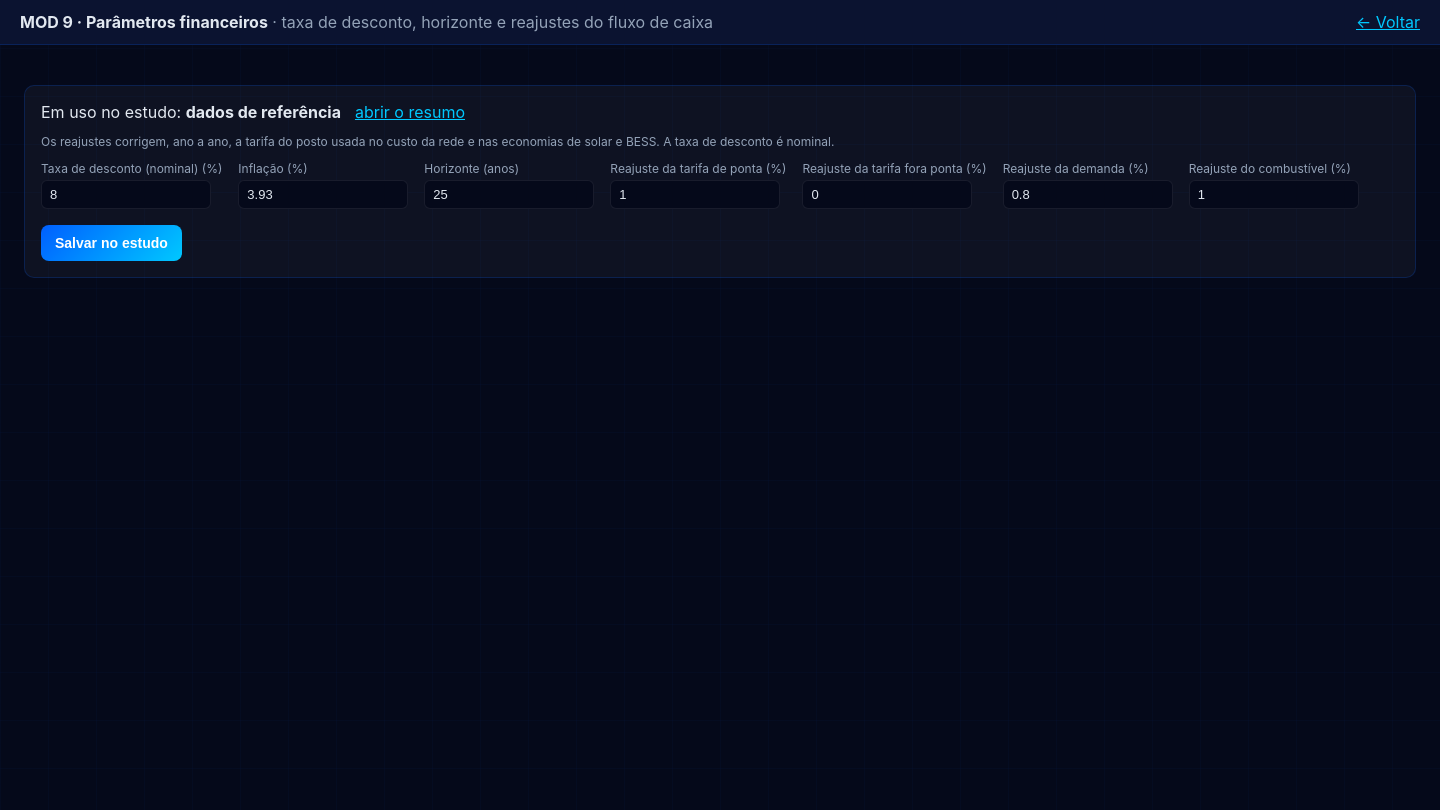
InvestimentoPage › não salva quando a tela ou o servidor rejeitam
The image size is (1440, 810).
Replace the text in the field labelled "Horizonte (anos)" with "0" at (509, 194), box [424,180,594,209]
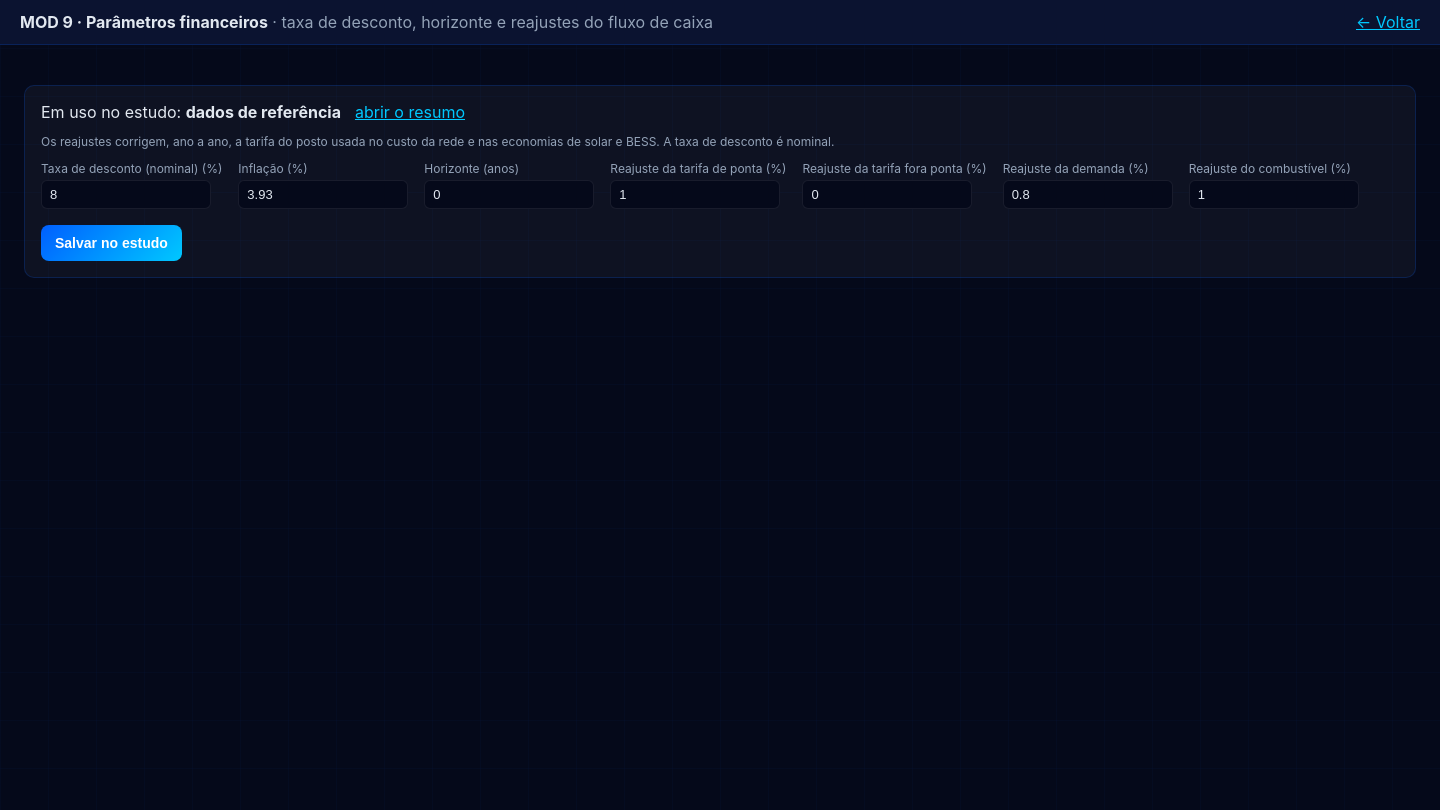
Click the button "Salvar no estudo" at (111, 243), box [41,225,182,261]
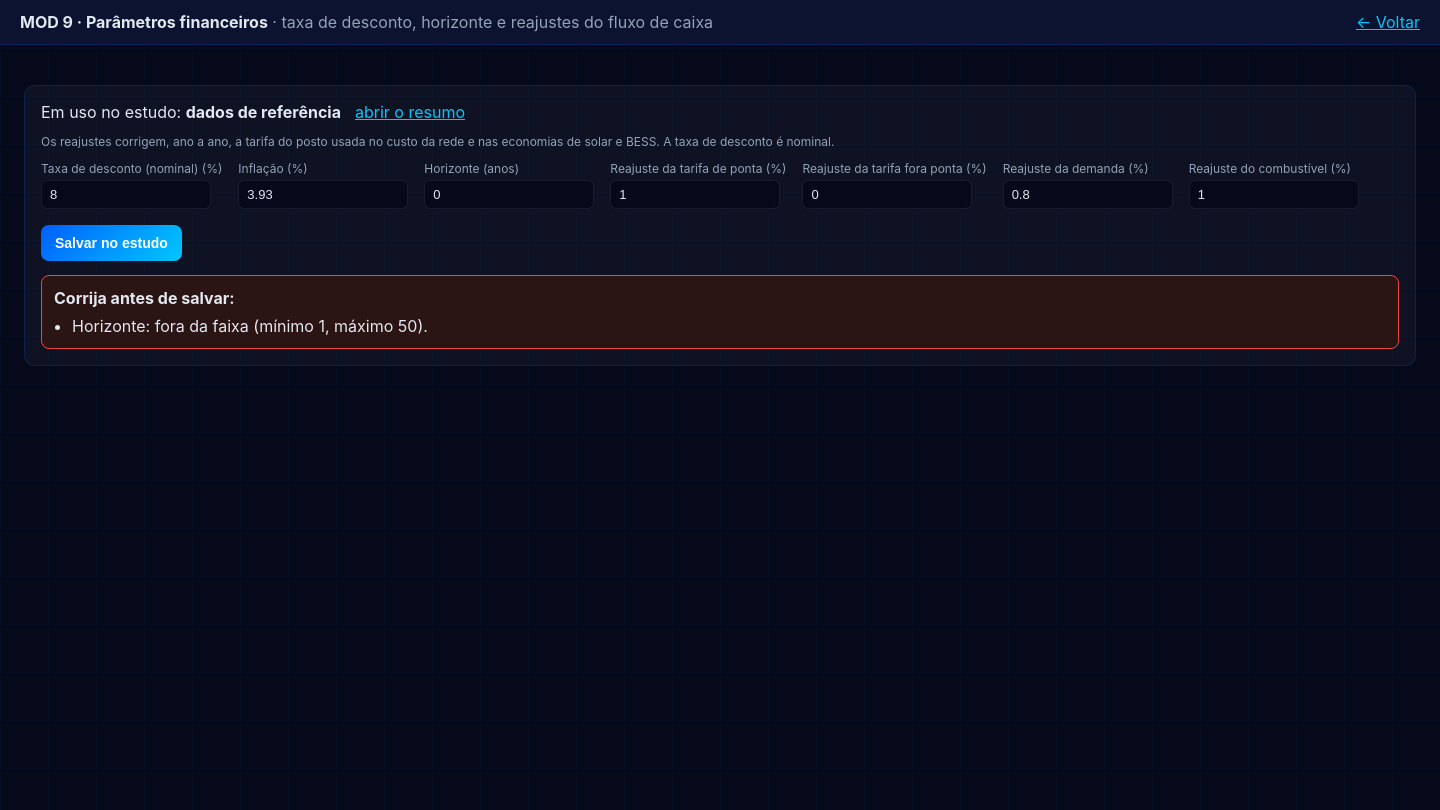
Check: the list item "Horizonte: fora da faixa (mínimo 1, máximo 50)." is shown, box [72,316,428,336]
Replace the text in the field labelled "Horizonte (anos)" with "20" at (509, 194), box [424,180,594,209]
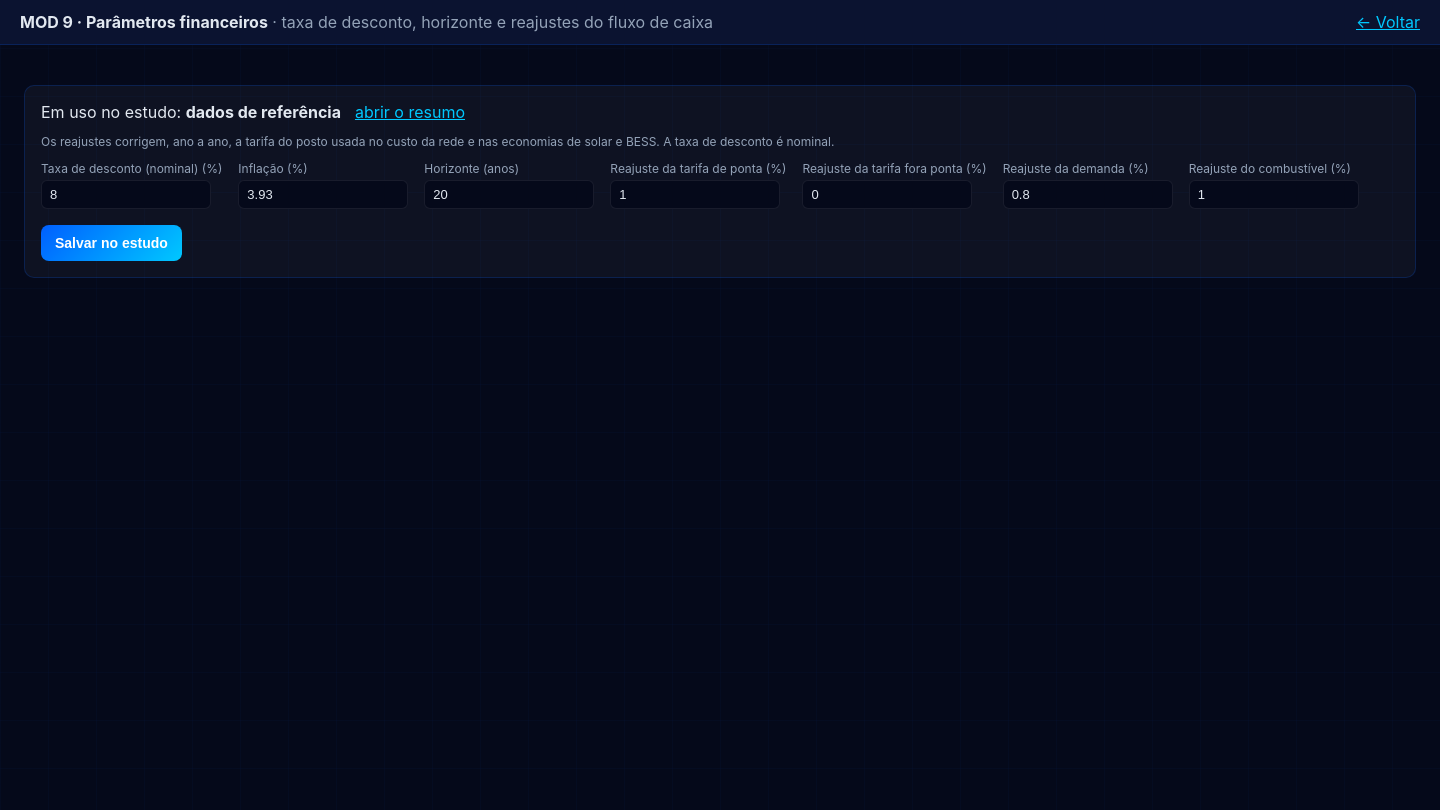
Click the button "Salvar no estudo" at (111, 243), box [41,225,182,261]
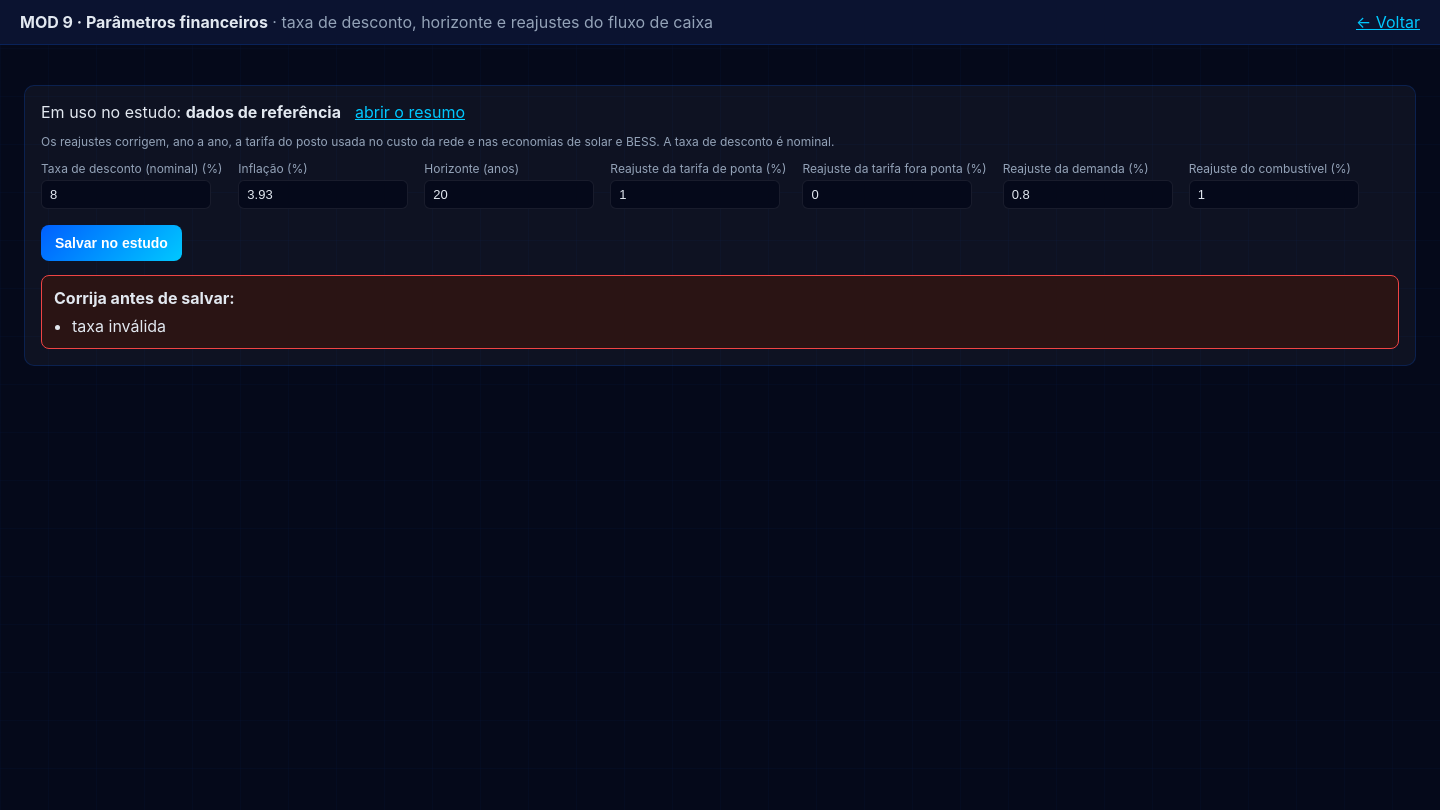
Check: the list item "taxa inválida" is shown, box [72,316,166,336]
